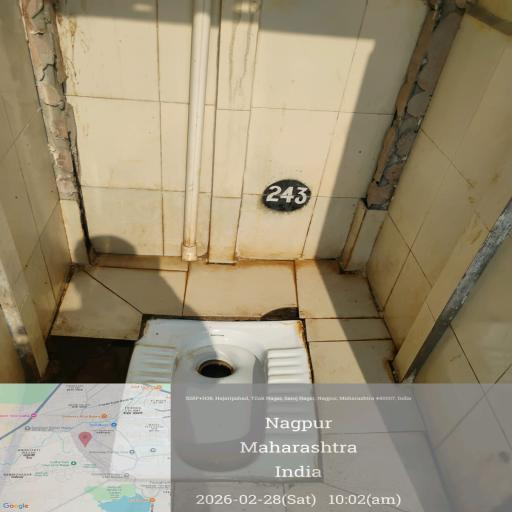damage: (56, 283, 374, 491)
partial_dirty_floor: (18, 25, 466, 231)
